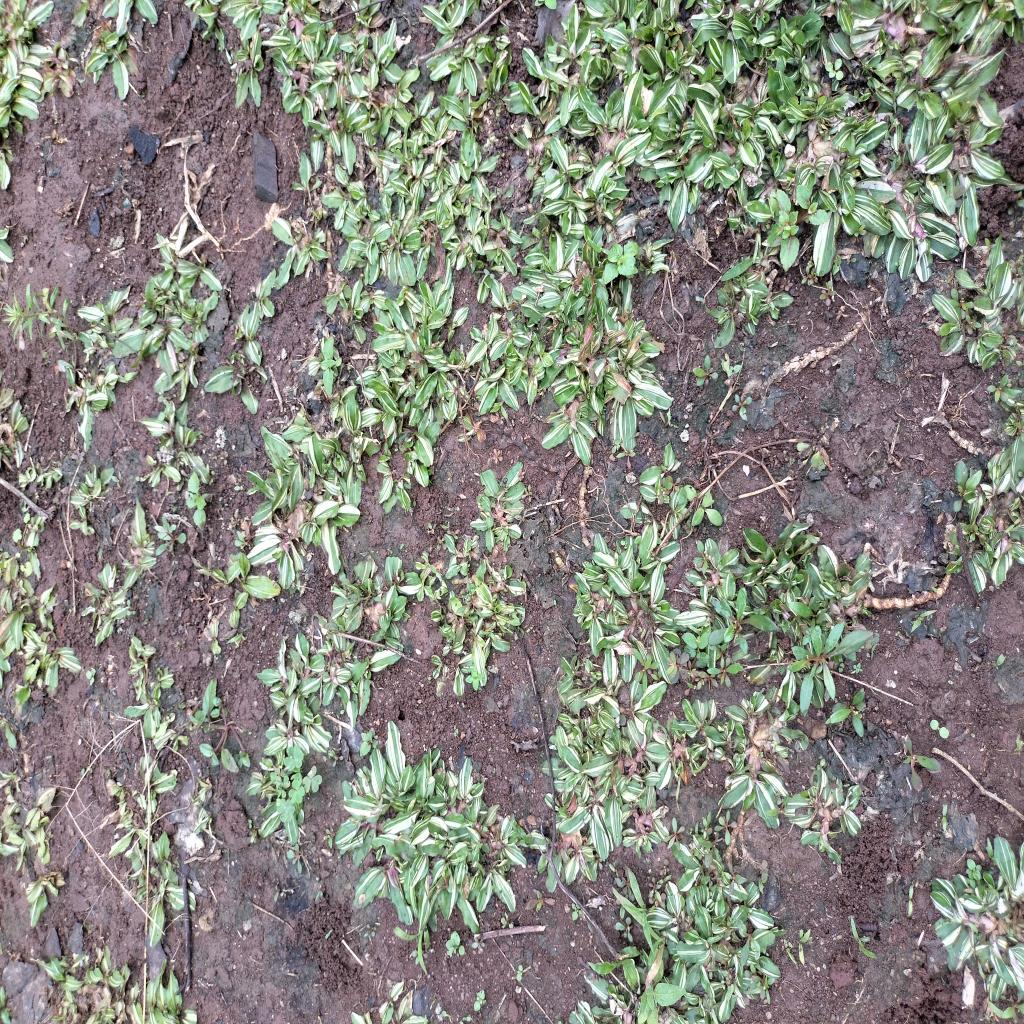akar wangi: (1, 280, 75, 358)
bayi: (566, 897, 588, 935), (445, 926, 466, 962), (466, 662, 488, 694), (823, 56, 846, 86), (927, 716, 951, 742), (471, 985, 491, 1016), (512, 956, 527, 984)
clover: (302, 763, 325, 797), (283, 743, 305, 772), (274, 797, 297, 824), (288, 776, 306, 806), (269, 764, 290, 786)
gingseng jawa: (787, 620, 875, 714), (702, 585, 780, 662), (678, 473, 728, 534), (822, 684, 870, 737), (900, 732, 941, 792), (951, 454, 984, 516), (704, 648, 744, 692), (154, 512, 188, 560), (712, 810, 742, 848), (692, 353, 721, 391), (729, 388, 754, 425), (524, 887, 557, 915), (662, 813, 686, 851), (614, 865, 637, 902), (948, 284, 977, 312), (987, 372, 1010, 406), (614, 914, 635, 948), (697, 806, 716, 843), (286, 842, 304, 876), (820, 278, 838, 308), (962, 312, 984, 336), (647, 874, 664, 904), (322, 825, 336, 850)
rambat atas: (610, 865, 669, 953), (391, 918, 439, 981)
tunggang besar: (636, 980, 688, 1024), (318, 331, 340, 402)
ungu tunggang: (189, 674, 254, 774), (764, 184, 830, 275), (359, 723, 381, 759)
